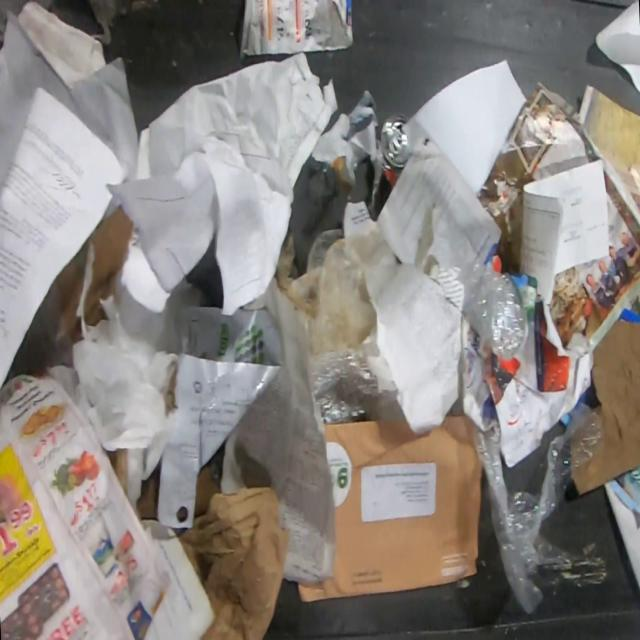cardboard: (178, 486, 290, 640), (58, 204, 135, 345), (136, 458, 162, 521), (195, 462, 221, 518)
metal: (379, 114, 412, 190)
soft_plastic: (473, 406, 607, 614), (287, 228, 379, 359), (439, 240, 532, 360), (310, 327, 399, 428)
